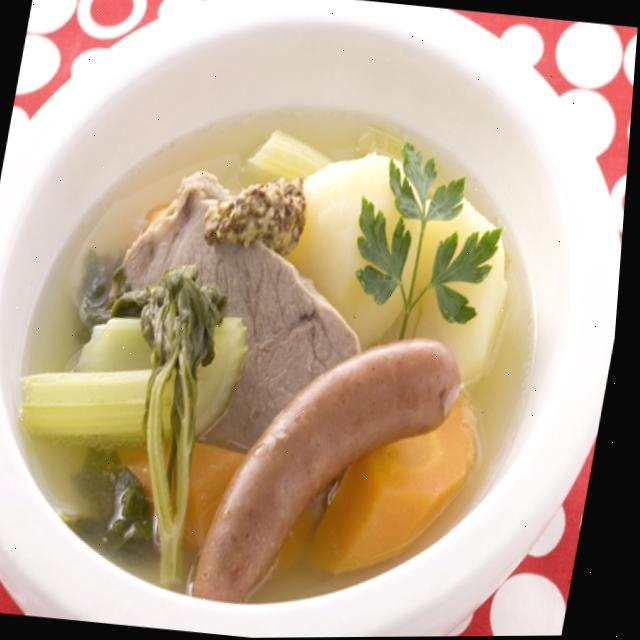汤锅炖物: (0, 73, 590, 640)
